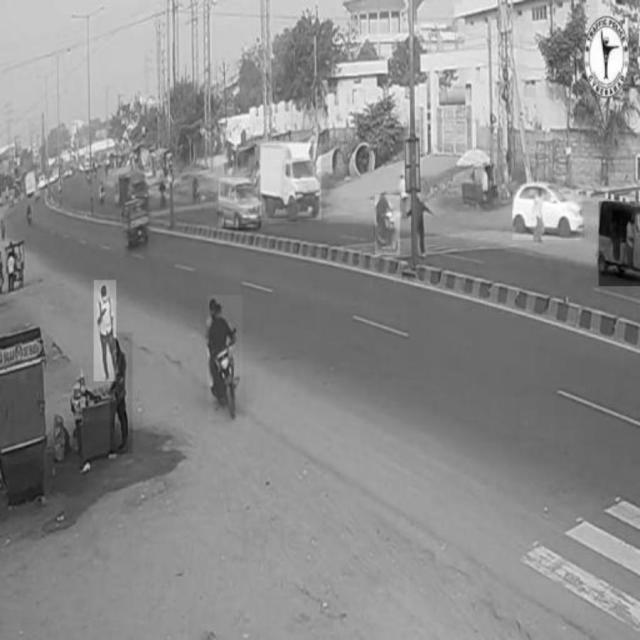person: (110, 333, 134, 454), (94, 280, 116, 381)
vehicle: (261, 144, 322, 220), (207, 295, 242, 419), (512, 190, 583, 241), (599, 202, 640, 286), (219, 179, 259, 229), (375, 195, 400, 255), (125, 197, 151, 242)
